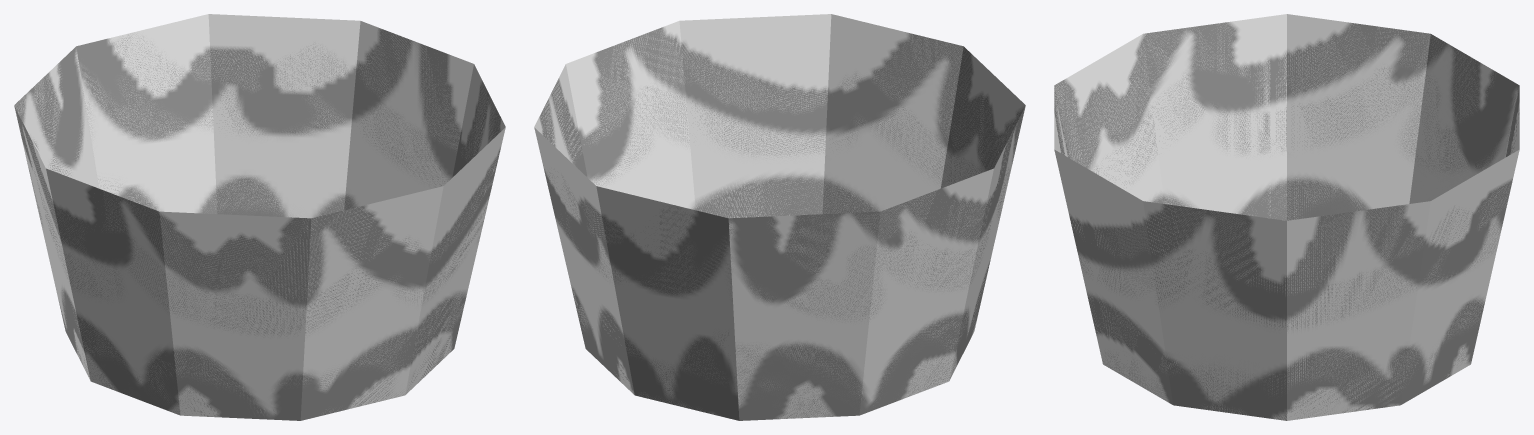
The model's file is Smoke.fbx.
3 views of the same model, side by side, from view 1: azimuth 30°, elevation 25°; view 2: azimuth 150°, elevation 25°; view 3: azimuth 270°, elevation 25° (orthographic).
Visible parts, largest first — view 1: pCylinder1, pCylinder2; view 2: pCylinder1, pCylinder2; view 3: pCylinder1, pCylinder2.
Boxes of the visible parts, x1,y1,x2,y2 form: pCylinder1: (14, 14, 505, 420); pCylinder2: (14, 14, 505, 420); pCylinder1: (534, 14, 1025, 420); pCylinder2: (535, 14, 1024, 419); pCylinder1: (1054, 14, 1519, 420); pCylinder2: (1054, 14, 1519, 420).
Size of the model in its own units: 50 by 25 by 47.55.
1 material, 1 textured.
